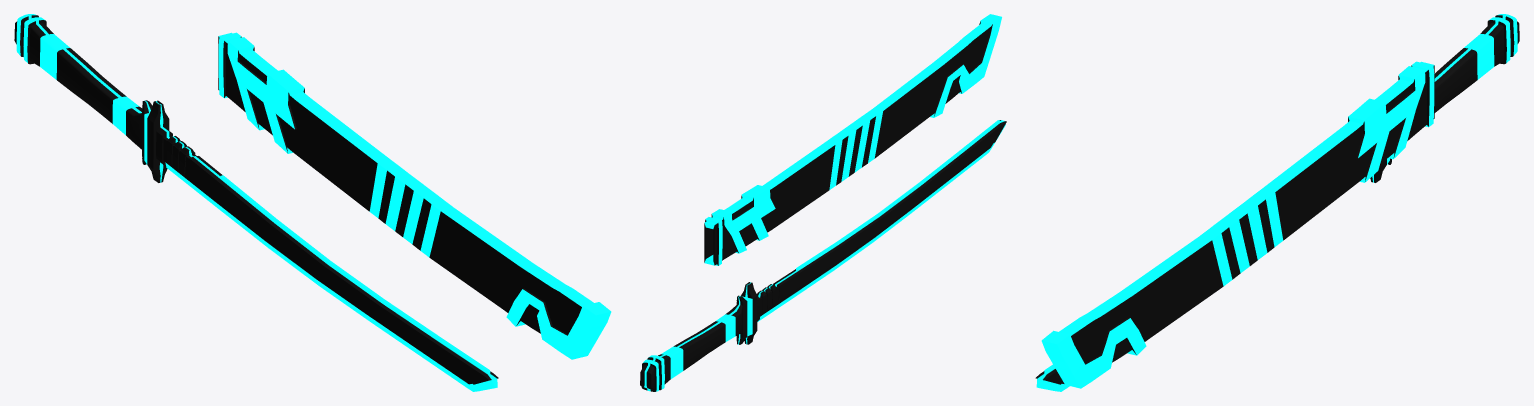
File: sword with cover.fbx
3 views of the same model, side by side, from view 1: azimuth 30°, elevation 25°; view 2: azimuth 150°, elevation 25°; view 3: azimuth 330°, elevation 25° (orthographic). The views are drawn at different scales.
Parts seen in each view (by area): view 1: Box001; view 2: Box001; view 3: Box001.
Boxes of the visible parts, x1,y1,x2,y2 form: Box001: (14, 14, 611, 391); Box001: (640, 14, 1006, 391); Box001: (1035, 14, 1519, 391).
Bounding box in the file's own units: 105 × 179 × 1204.
